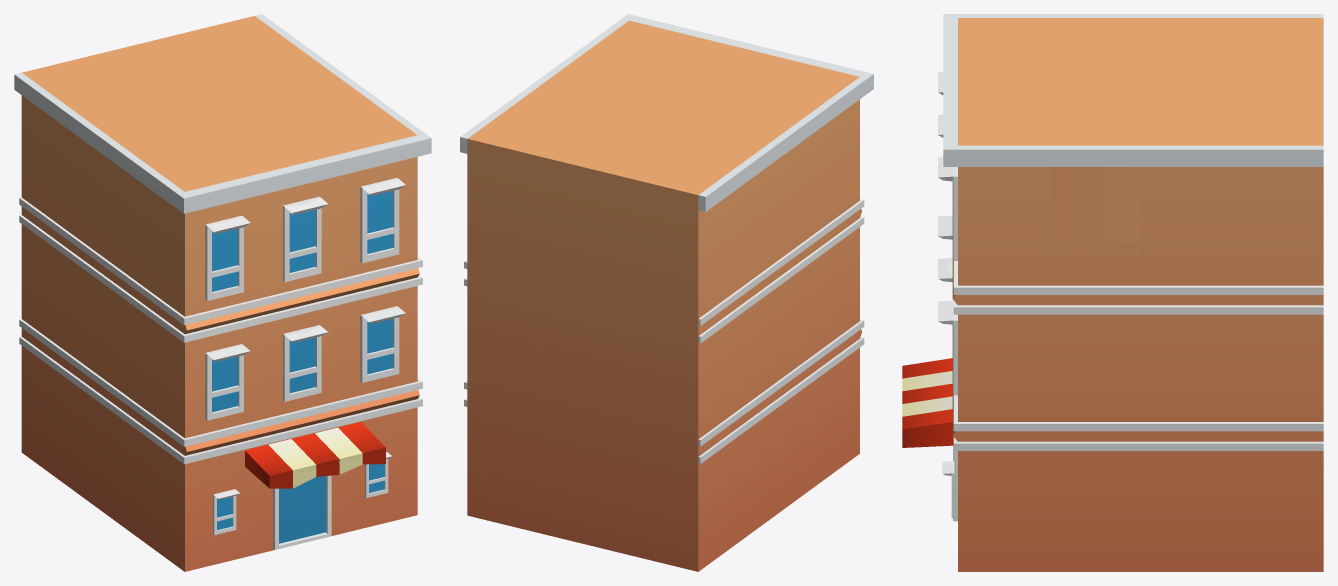
File: building.obj
The picture shows the model from 3 angles, left to right: view 1: azimuth 30°, elevation 25°; view 2: azimuth 150°, elevation 25°; view 3: azimuth 270°, elevation 25°; orthographic projection. The views are drawn at different scales.
Visible parts, largest first — view 1: building:low_poly_building__1_:CubeFBXASC046002 group, building:low_poly_building__1_:CubeFBXASC046002 group building:l; view 2: building:low_poly_building__1_:CubeFBXASC046002 group; view 3: building:low_poly_building__1_:CubeFBXASC046002 group, building:low_poly_building__1_:CubeFBXASC046002 group building:l.
Part boxes in pixels (<box>): building:low_poly_building__1_:CubeFBXASC046002 group: <box>14,14,431,571</box>; building:low_poly_building__1_:CubeFBXASC046002 group building:l: <box>245,422,385,488</box>; building:low_poly_building__1_:CubeFBXASC046002 group: <box>460,14,873,571</box>; building:low_poly_building__1_:CubeFBXASC046002 group: <box>938,14,1323,571</box>; building:low_poly_building__1_:CubeFBXASC046002 group building:l: <box>902,358,953,447</box>.
Bounding box in the file's own units: 27.93 × 40.93 × 36.67.
Materials: 1 (1 with a texture image).
